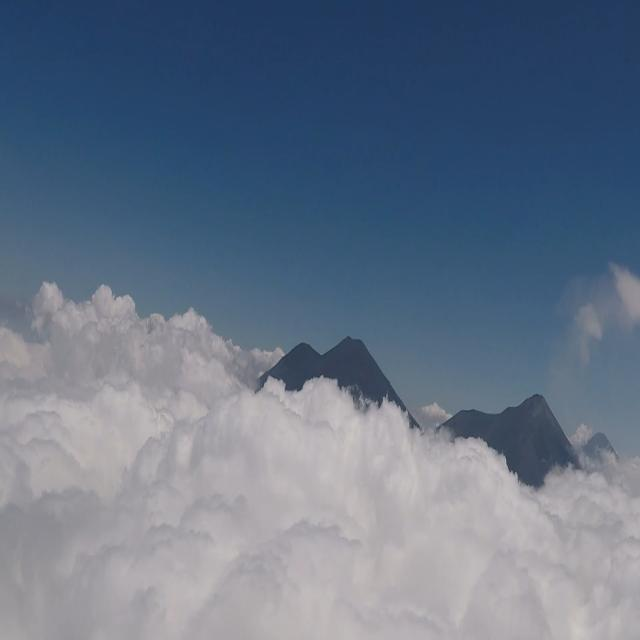Summit: (497, 388, 568, 431)
